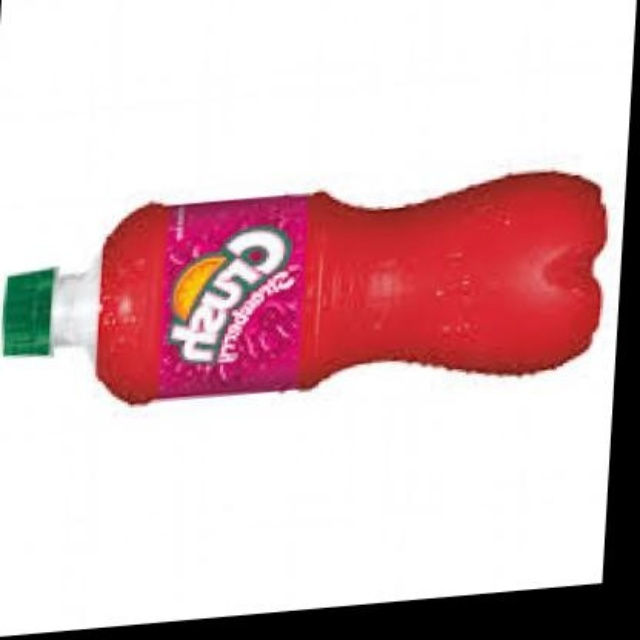trash: (97, 172, 605, 402)
